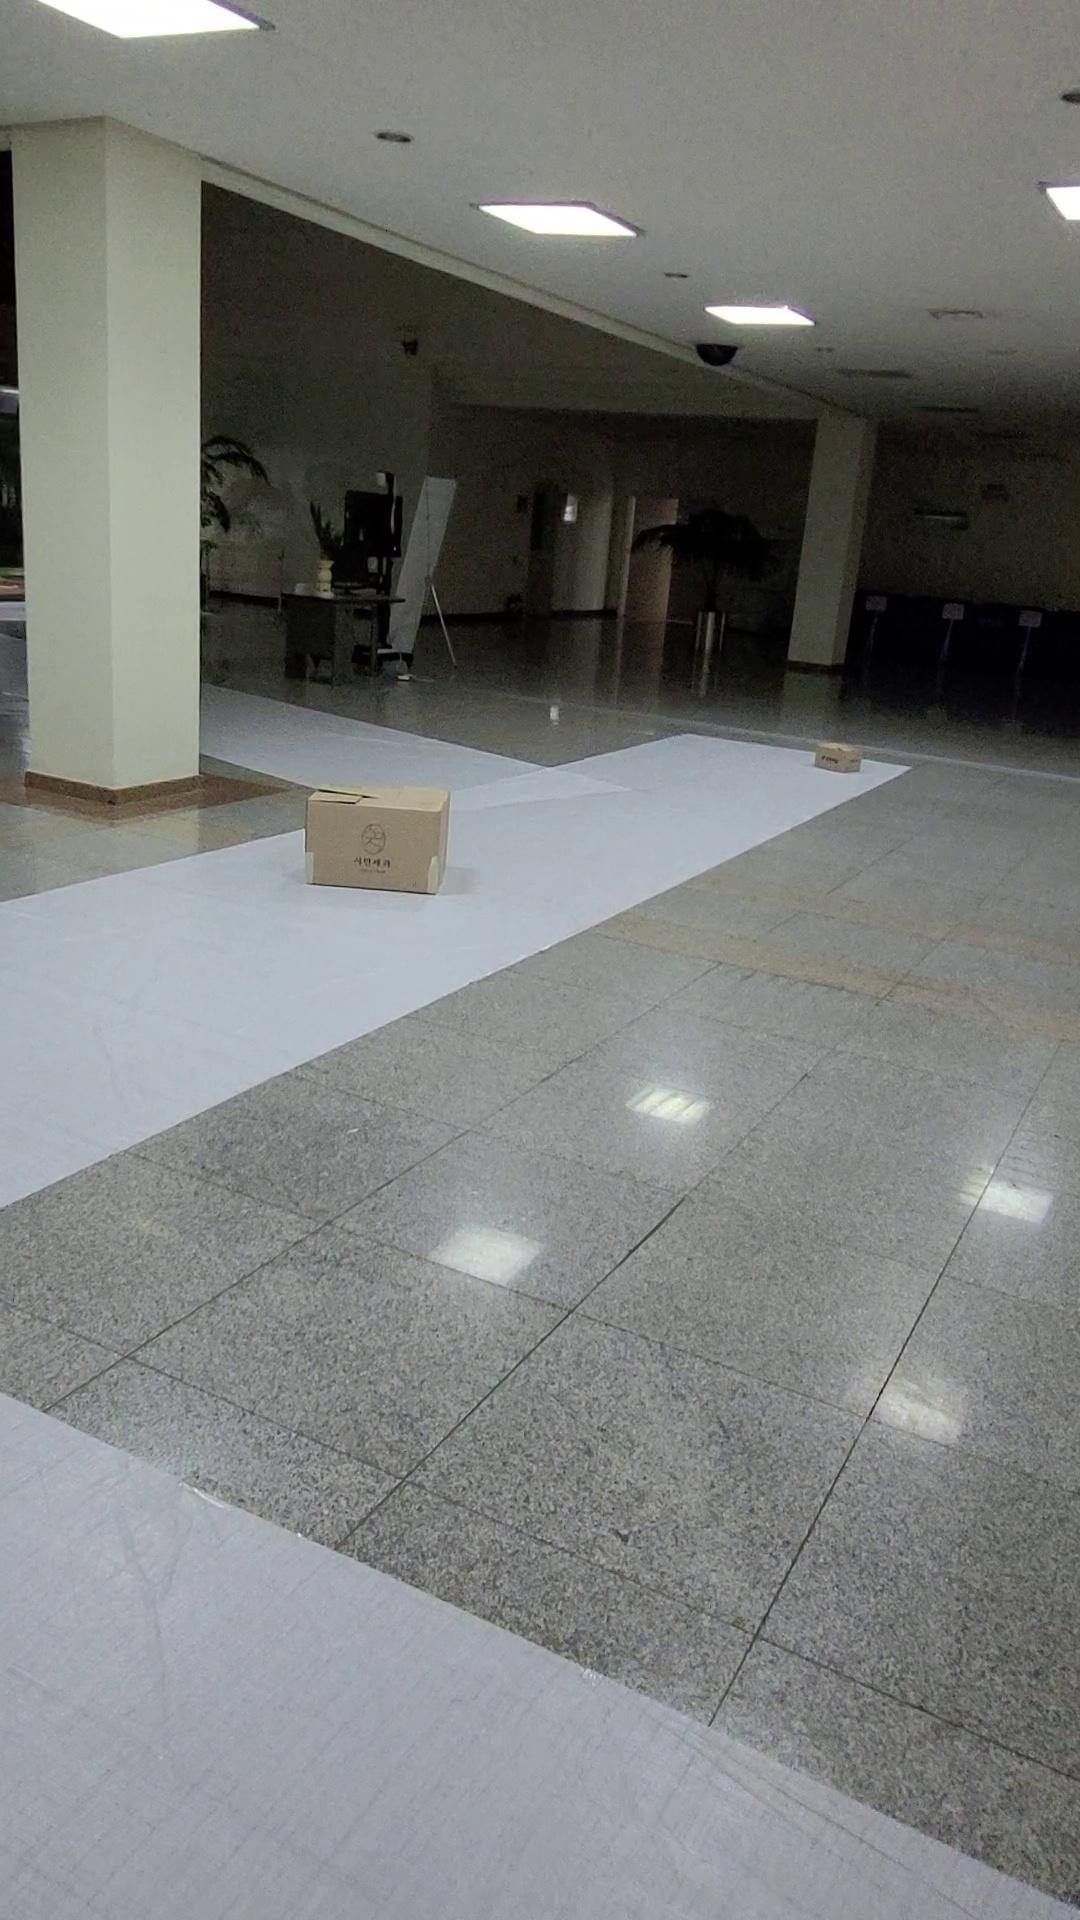Box: (287, 750, 450, 932), (814, 705, 887, 782)
